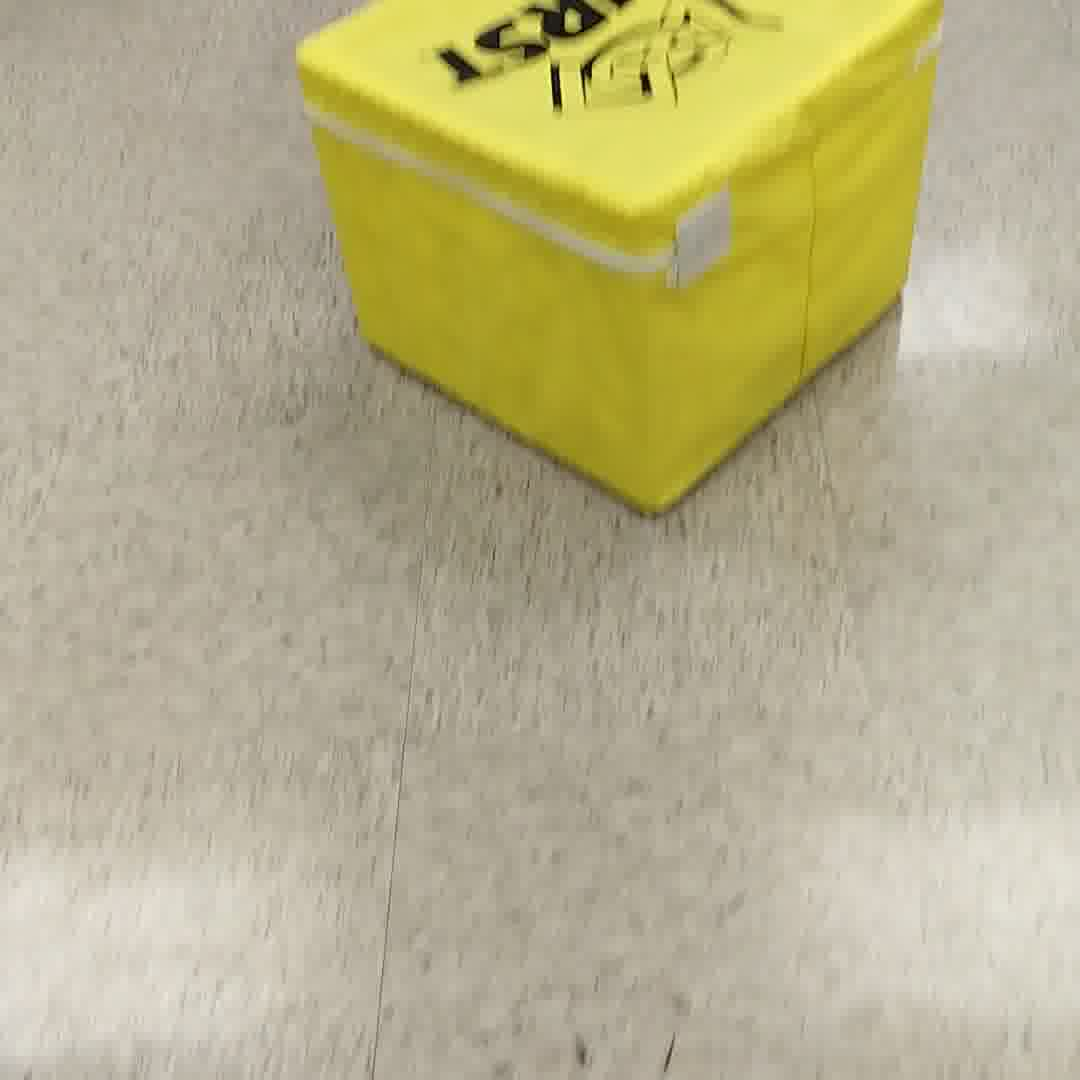box: (285, 3, 943, 520)
